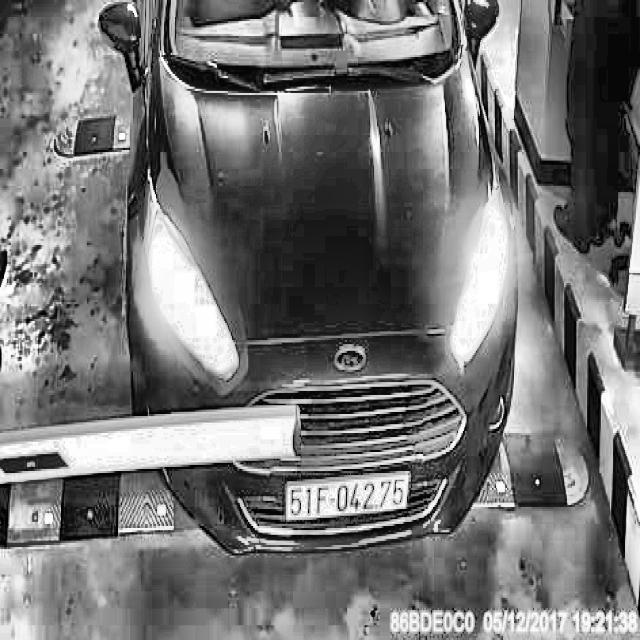plate: (281, 467, 414, 527)
